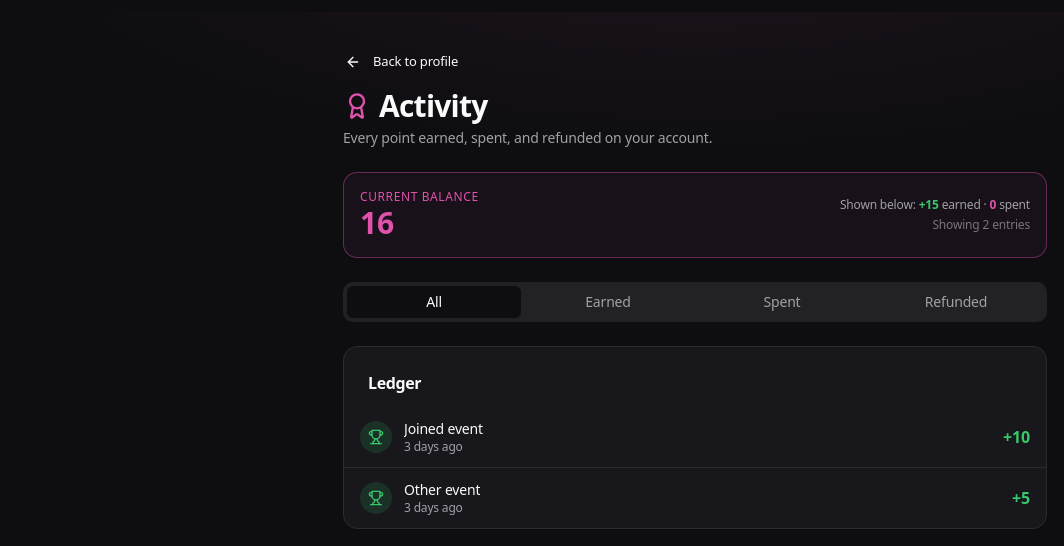
Test: links own ledger events by known room code and leaves unknown events unlinked
Click the text "Joined event" at [443, 429], box [404, 419, 483, 439]
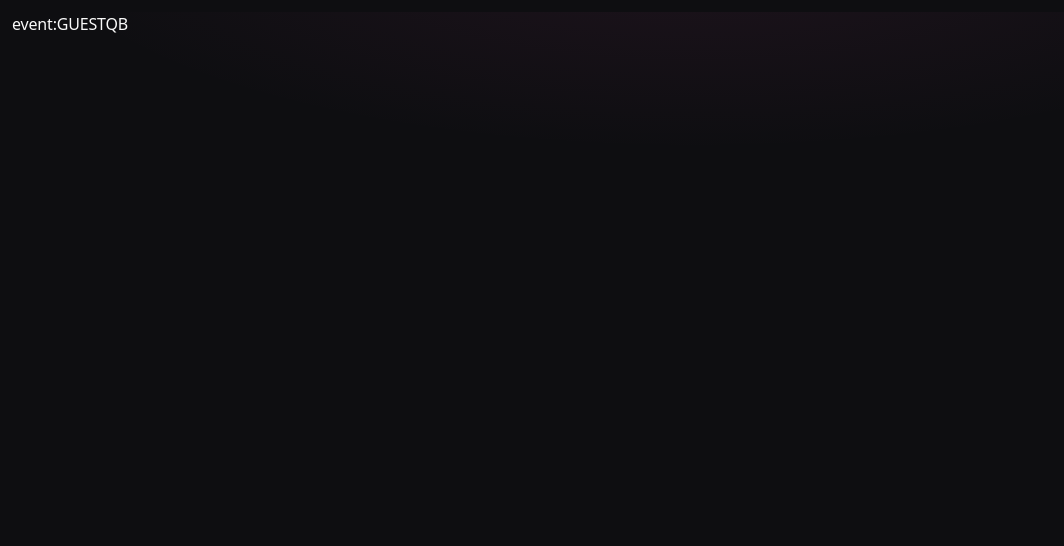
Now the text "event:GUESTQB" is shown, box [12, 13, 128, 35]
